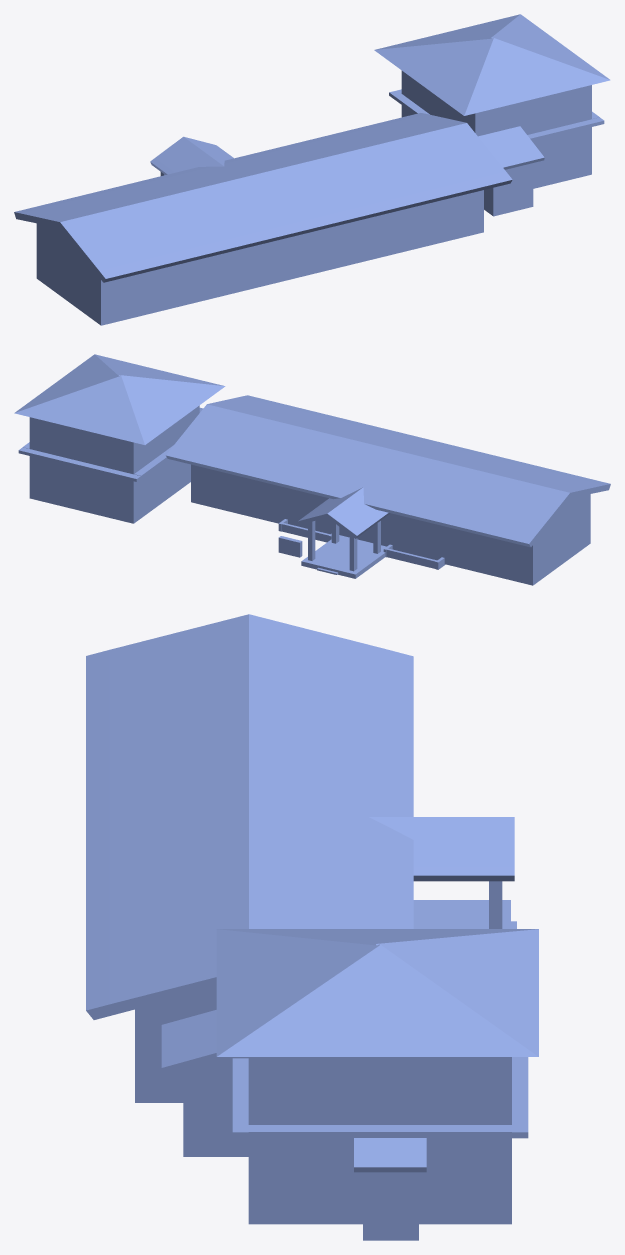
The model's file is HM1Nav.glb.
3 renders of one model, top to bottom at view 1: azimuth 30°, elevation 25°; view 2: azimuth 150°, elevation 25°; view 3: azimuth 270°, elevation 25°, orthographic. The views are drawn at different scales.
Parts seen in each view (by area): view 1: roof.002; view 2: roof.002; view 3: roof.002.
Boxes of the visible parts, x1,y1,x2,y2 form: roof.002: [14, 14, 610, 325]; roof.002: [14, 354, 610, 585]; roof.002: [86, 614, 538, 1240].
Size of the model in its own units: 34.82 by 7.62 by 13.77.
